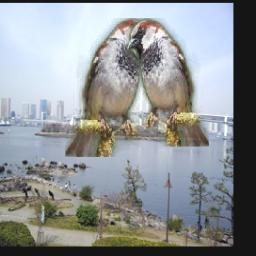Sparrow: (66, 18, 155, 157), (126, 19, 209, 148)
